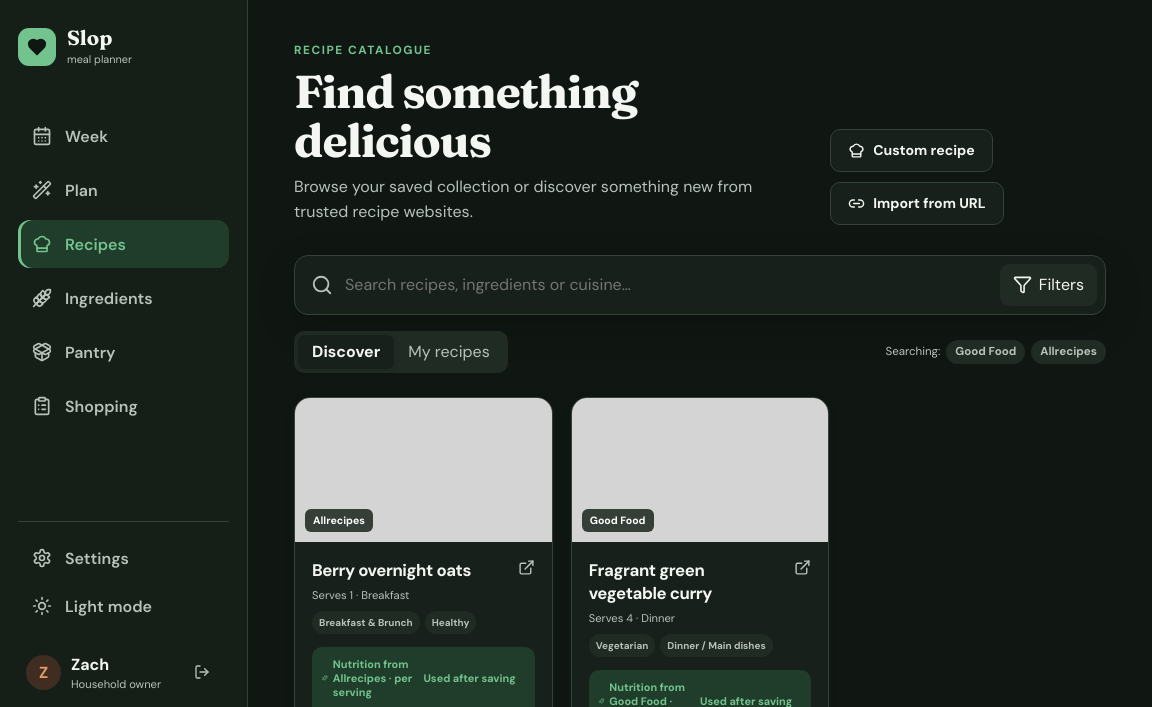
App › filters by categories without a text query and enforces the three-category limit
Click the button with aria-label "recipe filters" at (1048, 285), box [1000,264,1097,306]
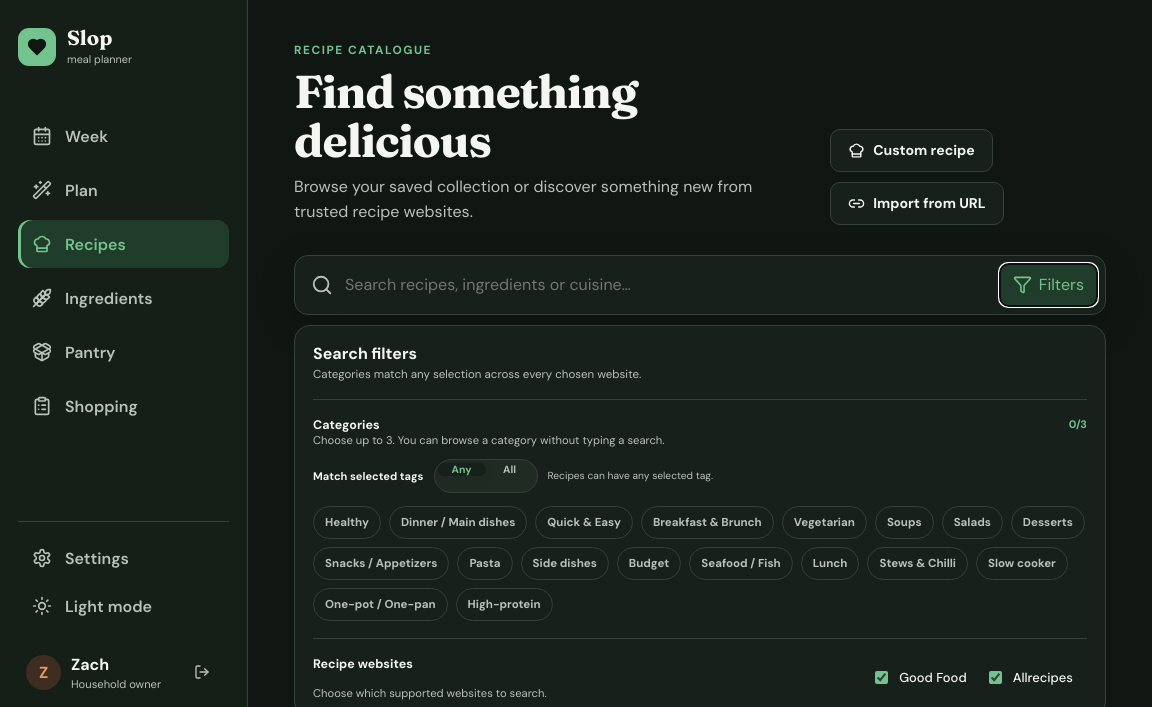
Click the checkbox labelled "Healthy" at (347, 522), box [313,506,381,539]
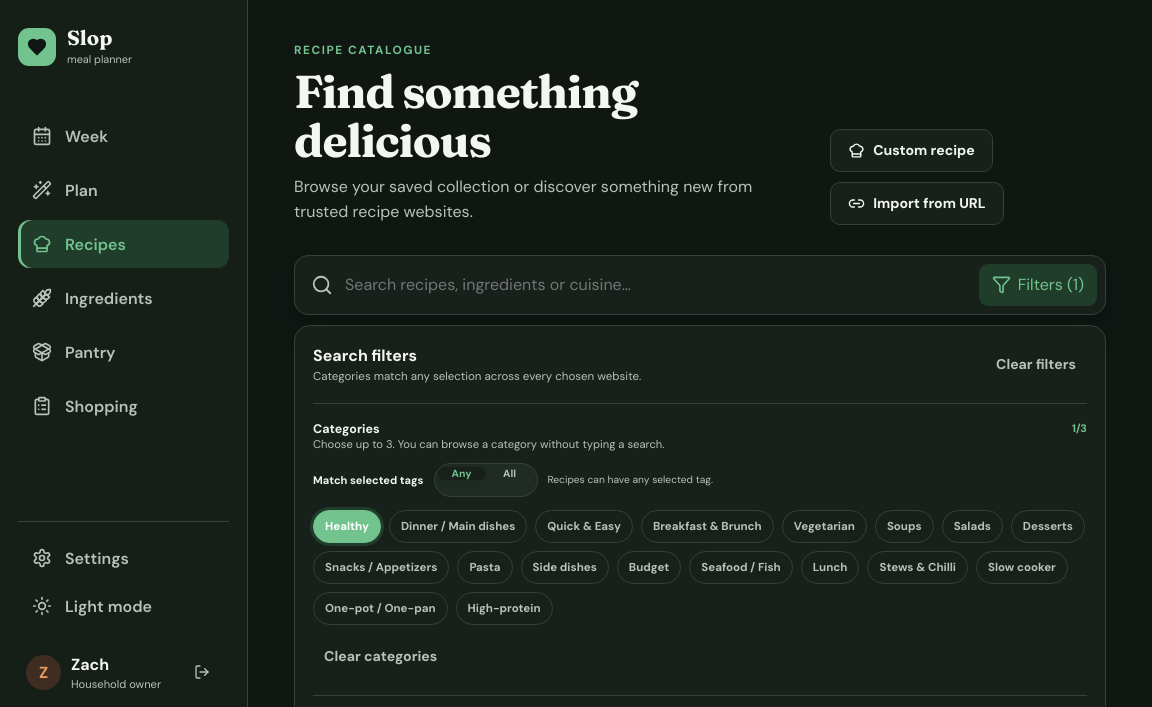
Click the checkbox labelled "Soups" at (904, 526), box [875,510,934,543]
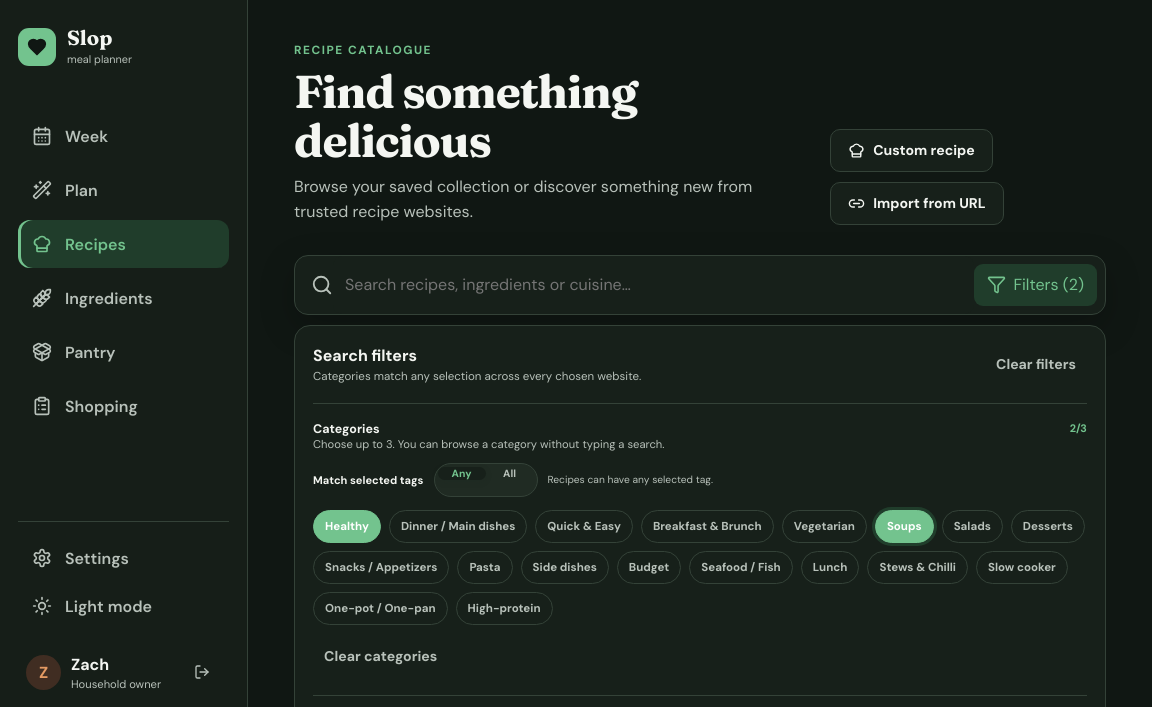
Click the checkbox labelled "Salads" at (972, 526), box [942,510,1003,543]
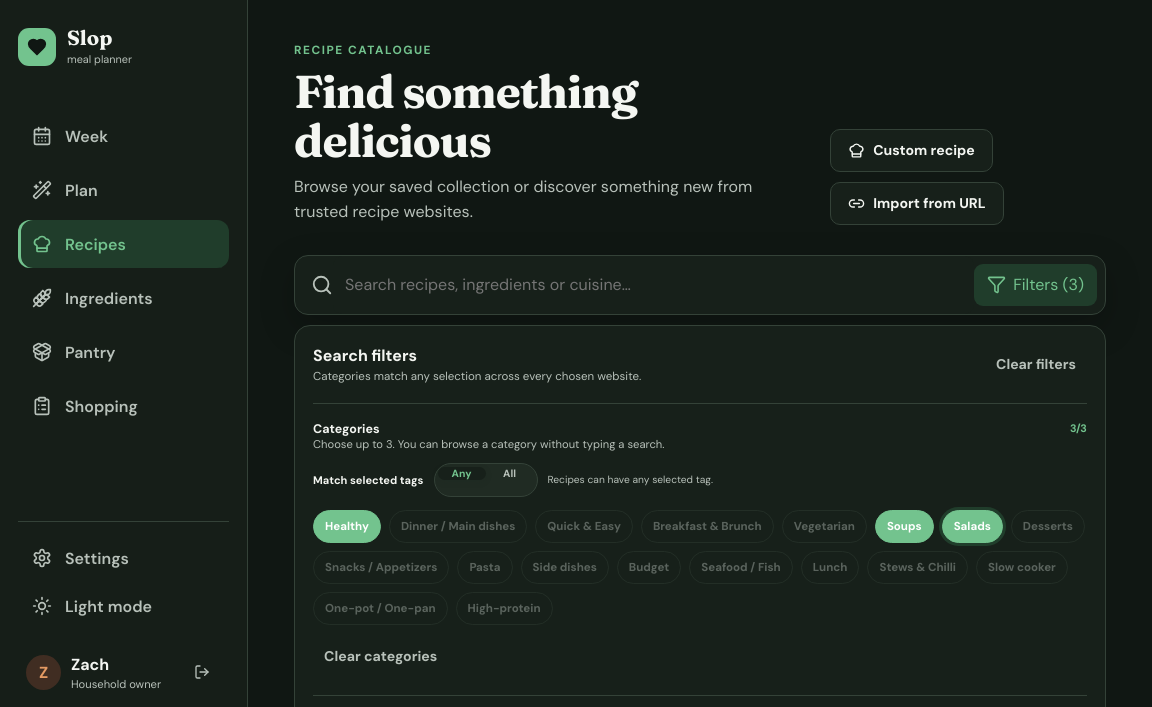
Now the text "3/3" is shown, box [1070,421,1087,435]
Now the checkbox labelled "Pasta" is disabled, box [457,551,512,584]
